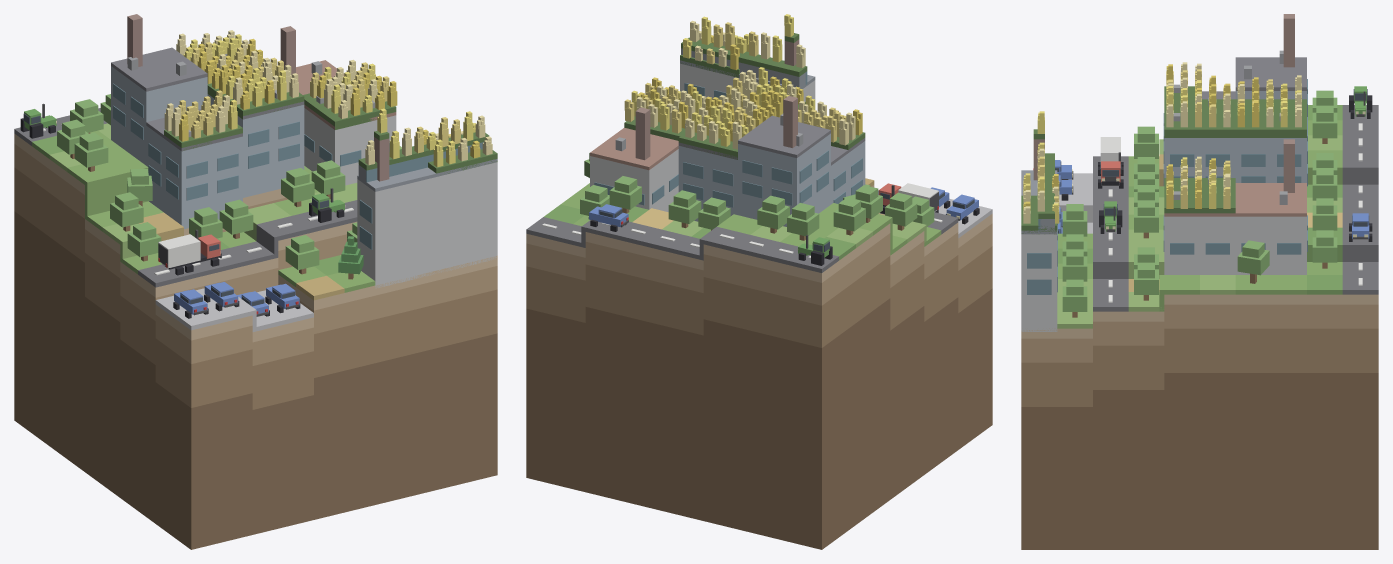
File: block_11_urbanfarm_45.glb
3 views of the same model, side by side, from view 1: azimuth 30°, elevation 25°; view 2: azimuth 150°, elevation 25°; view 3: azimuth 270°, elevation 25° (orthographic). The views are drawn at different scales.
Visible parts, largest first — view 1: Patch_LowerLeft_b12_UF, Factories_LowerLeft_b12_UF, Ground_LowerLeft_b12_UF, Roads_LowerLeft_b12_UF, UFR_Factories_LowerLeft_b12_UF, Parking_LowerLeft_b12_UF, Asset_Truck.004_UF, Asset_Tree_Round.040_UF, Asset_Tree_Round.066_UF, Asset_Tree_Round.046_UF, Asset_Tree_Round.052_UF, Asset_Tree_Round.053_UF (+12 smaller); view 2: Patch_LowerLeft_b12_UF, Factories_LowerLeft_b12_UF, Ground_LowerLeft_b12_UF, Roads_LowerLeft_b12_UF, UFR_Factories_LowerLeft_b12_UF, Asset_Tree_Round.033_UF, Asset_Tree_Round.034_UF, Asset_Tree_Round.038_UF, Asset_Tree_Round.030_UF, Asset_Tree_Round.031_UF, Asset_Tree_Round.046_UF, Asset_Truck.004_UF (+6 smaller); view 3: Patch_LowerLeft_b12_UF, Factories_LowerLeft_b12_UF, Ground_LowerLeft_b12_UF, Roads_LowerLeft_b12_UF, UFR_Factories_LowerLeft_b12_UF, Asset_Truck.004_UF, Parking_LowerLeft_b12_UF, Asset_Tree_Round.016_UF, Asset_Tree_Round.031_UF, Asset_Tree_Round.035_UF, Asset_Tree_Round.069_UF, Asset_Tree_Round.054_UF (+10 smaller).
Part boxes in pixels (left/top/right/bottom): Patch_LowerLeft_b12_UF: left=14, top=133, right=497, bottom=549; Factories_LowerLeft_b12_UF: left=111, top=14, right=497, bottom=288; Ground_LowerLeft_b12_UF: left=32, top=123, right=401, bottom=300; Roads_LowerLeft_b12_UF: left=14, top=108, right=357, bottom=287; UFR_Factories_LowerLeft_b12_UF: left=164, top=83, right=497, bottom=173; Parking_LowerLeft_b12_UF: left=155, top=288, right=313, bottom=331; Asset_Truck.004_UF: left=158, top=229, right=221, bottom=275; Asset_Tree_Round.040_UF: left=74, top=132, right=108, bottom=171; Asset_Tree_Round.066_UF: left=285, top=235, right=319, bottom=274; Asset_Tree_Round.046_UF: left=110, top=192, right=143, bottom=231; Asset_Tree_Round.052_UF: left=219, top=199, right=253, bottom=238; Asset_Tree_Round.053_UF: left=281, top=168, right=314, bottom=206; Patch_LowerLeft_b12_UF: left=526, top=185, right=992, bottom=549; Factories_LowerLeft_b12_UF: left=590, top=39, right=865, bottom=226; Ground_LowerLeft_b12_UF: left=544, top=178, right=941, bottom=260; Roads_LowerLeft_b12_UF: left=526, top=212, right=958, bottom=272; UFR_Factories_LowerLeft_b12_UF: left=624, top=33, right=865, bottom=159; Asset_Tree_Round.033_UF: left=668, top=190, right=701, bottom=228; Asset_Tree_Round.034_UF: left=609, top=176, right=641, bottom=213; Asset_Tree_Round.038_UF: left=833, top=197, right=865, bottom=235; Asset_Tree_Round.030_UF: left=787, top=203, right=819, bottom=240; Asset_Tree_Round.031_UF: left=757, top=195, right=789, bottom=233; Asset_Tree_Round.046_UF: left=885, top=192, right=917, bottom=230; Asset_Truck.004_UF: left=878, top=183, right=938, bottom=213; Patch_LowerLeft_b12_UF: left=1021, top=294, right=1378, bottom=549; Factories_LowerLeft_b12_UF: left=1021, top=14, right=1307, bottom=331; Ground_LowerLeft_b12_UF: left=1057, top=105, right=1342, bottom=328; Roads_LowerLeft_b12_UF: left=1093, top=105, right=1378, bottom=311; UFR_Factories_LowerLeft_b12_UF: left=1021, top=86, right=1306, bottom=234; Asset_Truck.004_UF: left=1098, top=137, right=1123, bottom=188; Parking_LowerLeft_b12_UF: left=1059, top=173, right=1092, bottom=233; Asset_Tree_Round.016_UF: left=1237, top=240, right=1269, bottom=283; Asset_Tree_Round.031_UF: left=1312, top=105, right=1337, bottom=143; Asset_Tree_Round.035_UF: left=1312, top=230, right=1337, bottom=268; Asset_Tree_Round.069_UF: left=1062, top=279, right=1087, bottom=317; Asset_Tree_Round.054_UF: left=1134, top=200, right=1158, bottom=238.
Size of the model in its own units: 9.52 by 12.34 by 9.5.
